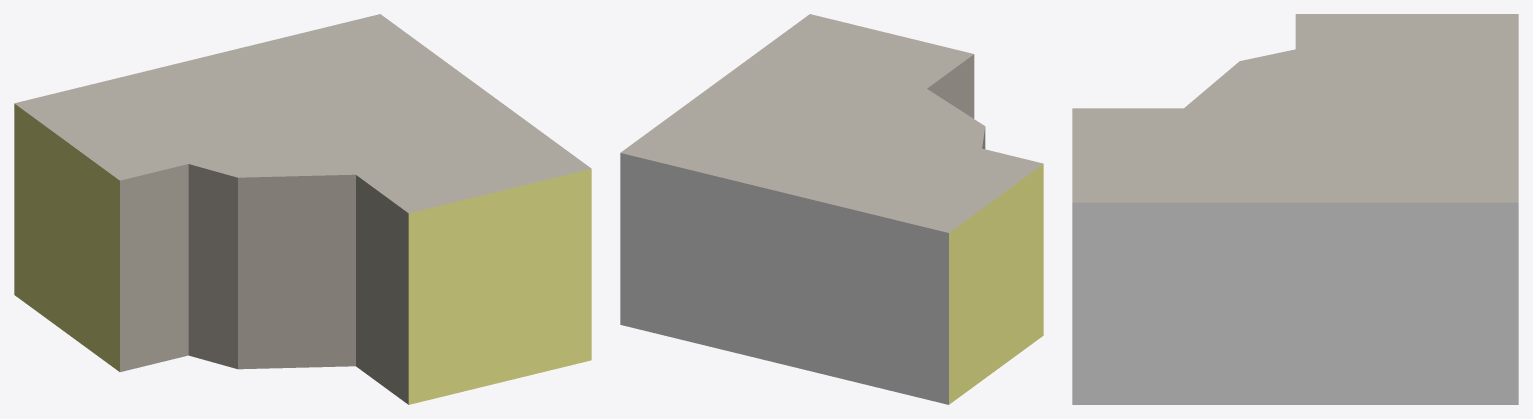
Rendered from Cracked_Curve_Inner_2x2_1_Mid.glb.
3 renders of one model, left to right at view 1: azimuth 30°, elevation 25°; view 2: azimuth 150°, elevation 25°; view 3: azimuth 270°, elevation 25°, orthographic. The views are drawn at different scales.
Visible parts, largest first — view 1: Cracked_Curve_Inner_2x2_1_Mid; view 2: Cracked_Curve_Inner_2x2_1_Mid; view 3: Cracked_Curve_Inner_2x2_1_Mid.
Part boxes in pixels (bbox=[...]): Cracked_Curve_Inner_2x2_1_Mid: bbox=[14, 14, 591, 404]; Cracked_Curve_Inner_2x2_1_Mid: bbox=[620, 14, 1043, 404]; Cracked_Curve_Inner_2x2_1_Mid: bbox=[1072, 14, 1518, 404].
Bounding box in the file's own units: 200 × 100 × 200.
